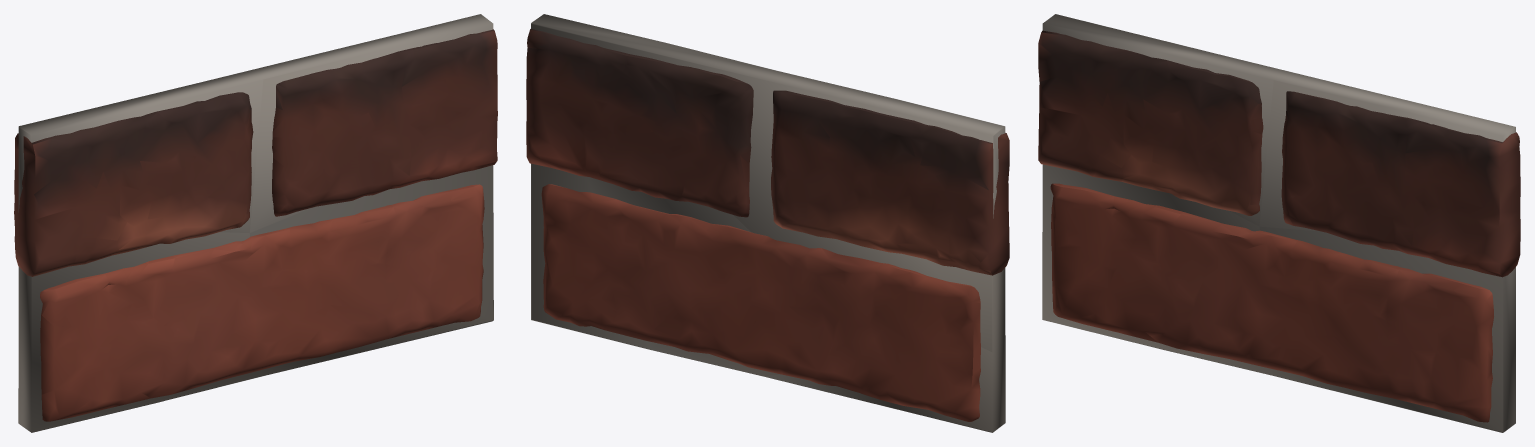
The model's file is ember_brick_wall_b_lod1.glb.
3 renders of one model, left to right at view 1: azimuth 30°, elevation 25°; view 2: azimuth 150°, elevation 25°; view 3: azimuth 330°, elevation 25°, orthographic.
Visible parts, largest first — view 1: ember_brick_wall_b.001; view 2: ember_brick_wall_b.001; view 3: ember_brick_wall_b.001.
Boxes of the visible parts, bbox=[...] form: ember_brick_wall_b.001: bbox=[14, 14, 497, 432]; ember_brick_wall_b.001: bbox=[526, 14, 1009, 432]; ember_brick_wall_b.001: bbox=[1038, 14, 1520, 432].
Size of the model in its own units: 65.06 by 40.08 by 5.74.
